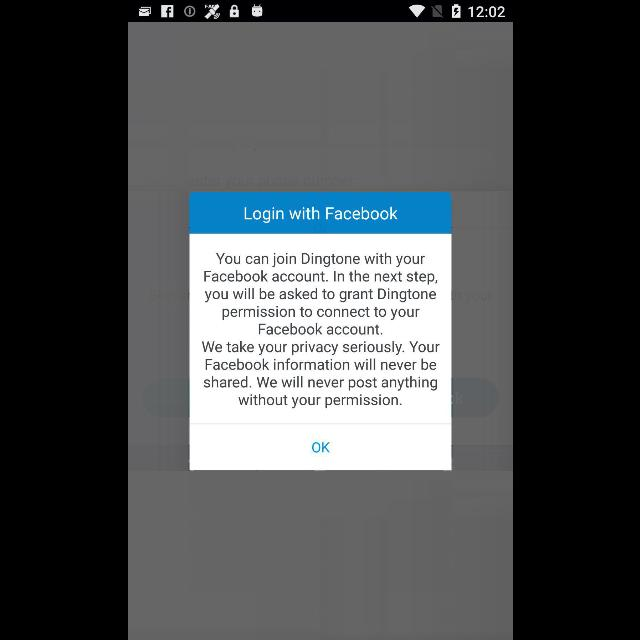panel: (190, 192, 450, 470)
text: (202, 254, 438, 408), (244, 208, 396, 222)
textbutton: (190, 424, 450, 470)
uppertaskbar: (128, 1, 512, 23)
